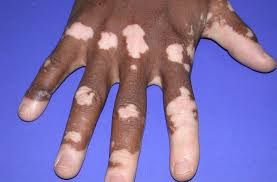vitiligo: (32, 15, 240, 152)
